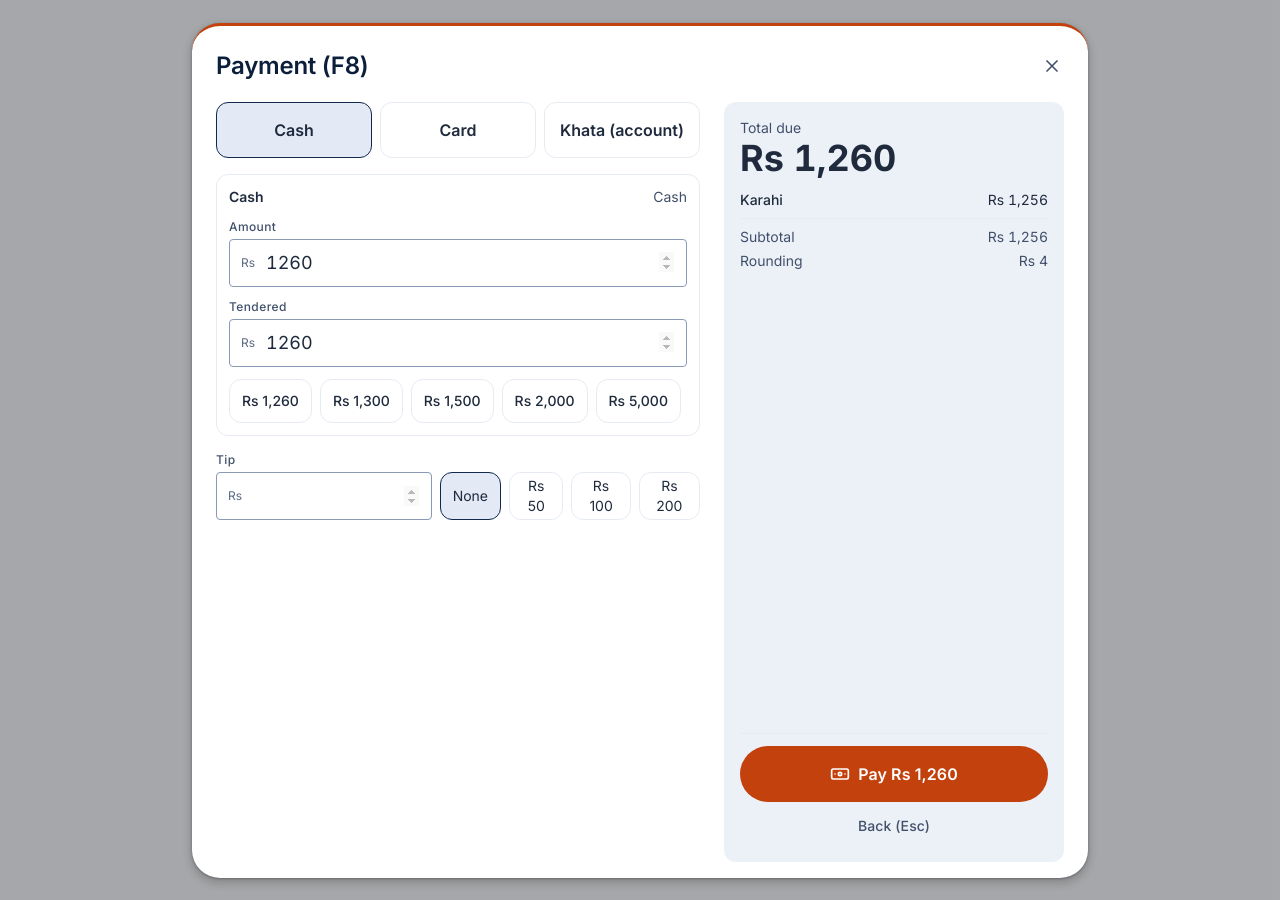
Scenario: PaymentDialog totals › rounds the first cash payment only
The width and height of the screenshot is (1280, 900).
Click the button "Card" at point(458, 130), box [380,102,536,158]
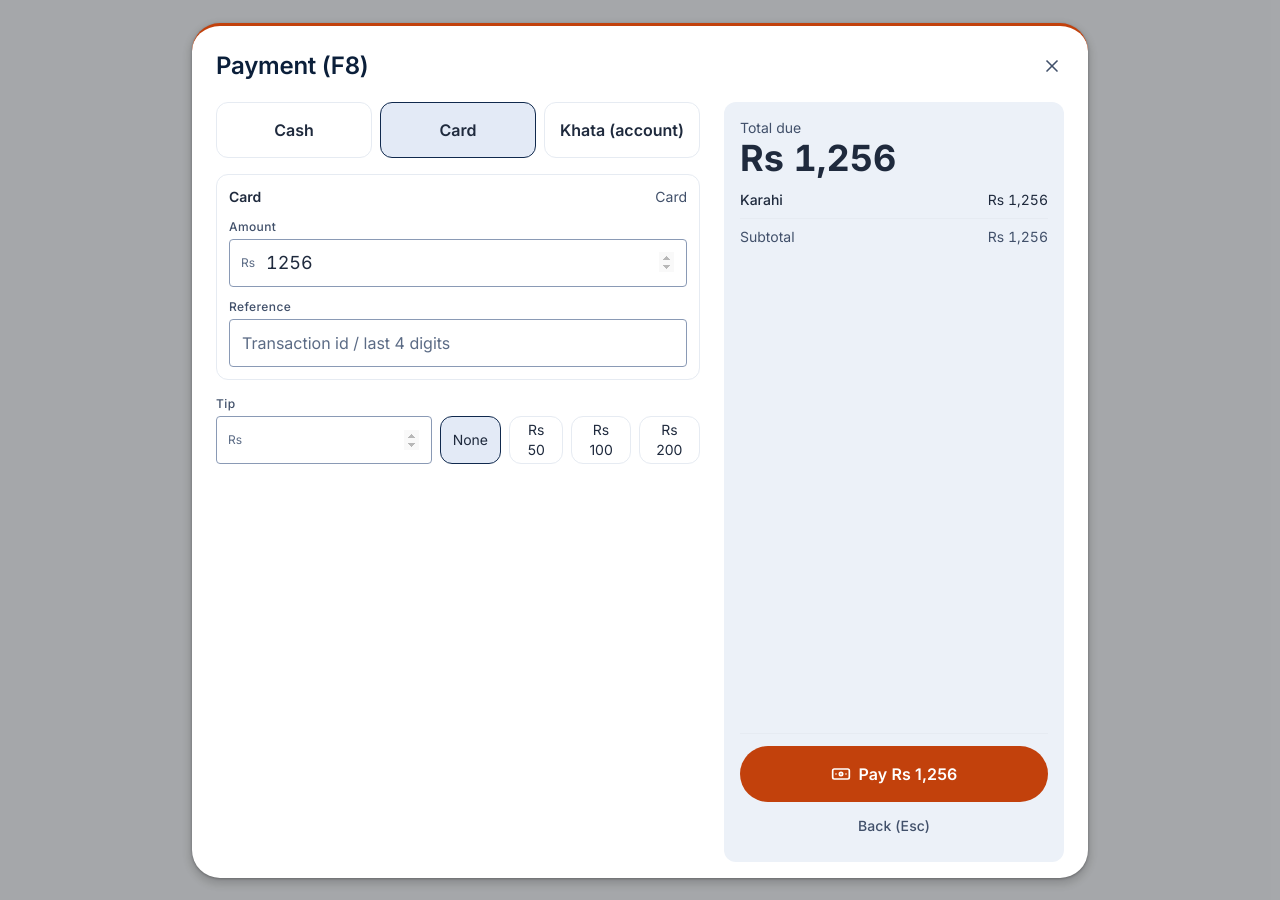
Now the 1st text "Rs 1,256" is shown, box [740,136,896,180]
